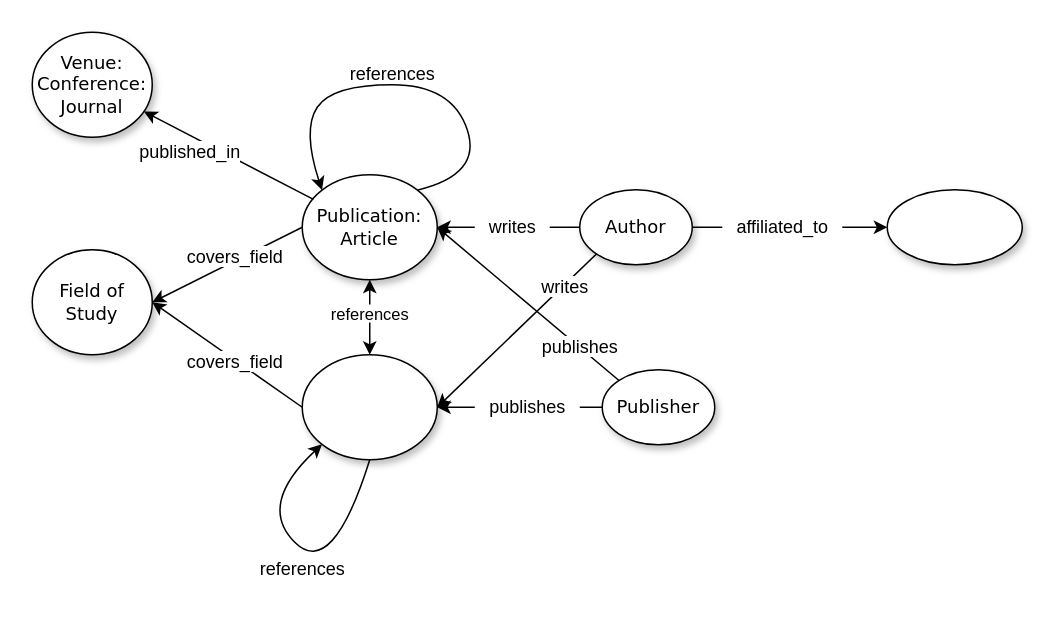
The diagram is 1058 pixels wide and 636 high, and some of its shapes have lost their labels. Here are the shapes that lost their labels. From the top down, the centre of each, then its label:
At point (955, 228): "Organization".
At point (370, 408): "Publication: Book".
